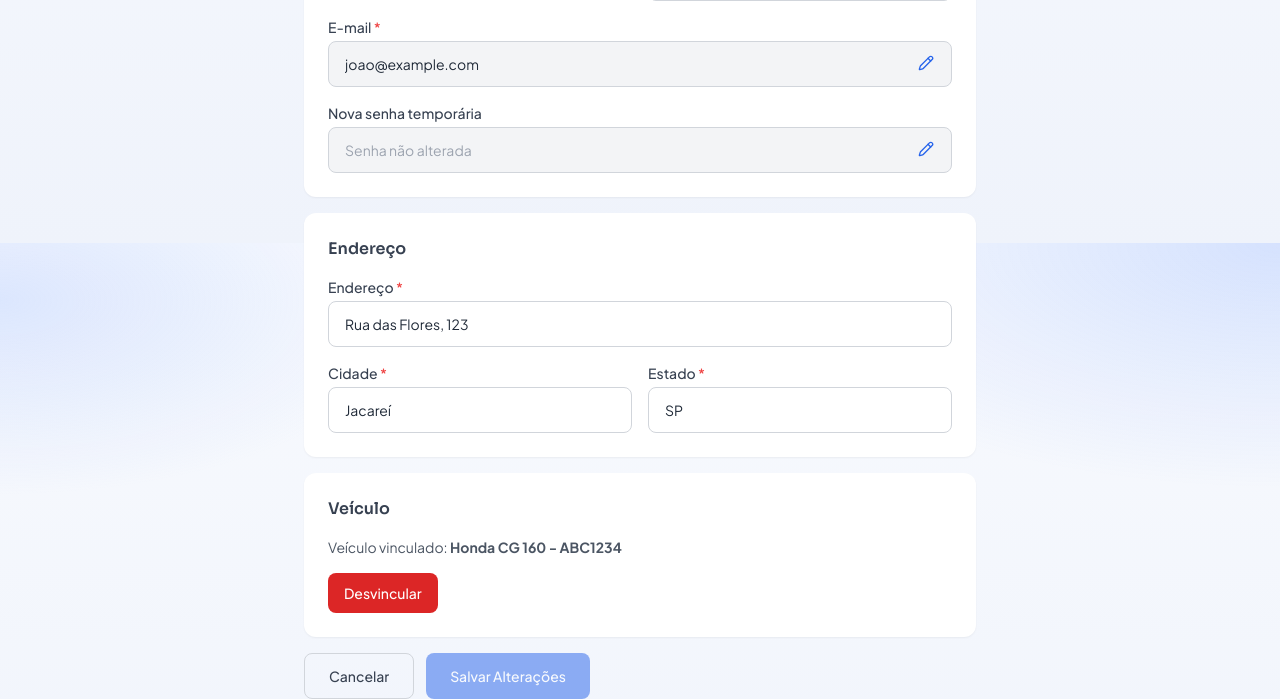
Scenario: DriverEditPage › WEB-05: shows the specific "active travel" error instead of a generic message
The image size is (1280, 699).
(page scrolled)
Expected: the text "Veículo vinculado: Honda CG 160 - ABC1234" is shown, [328, 538, 622, 556]
Step 1. Click the button "Desvincular" → click(383, 593), box [328, 573, 438, 613]
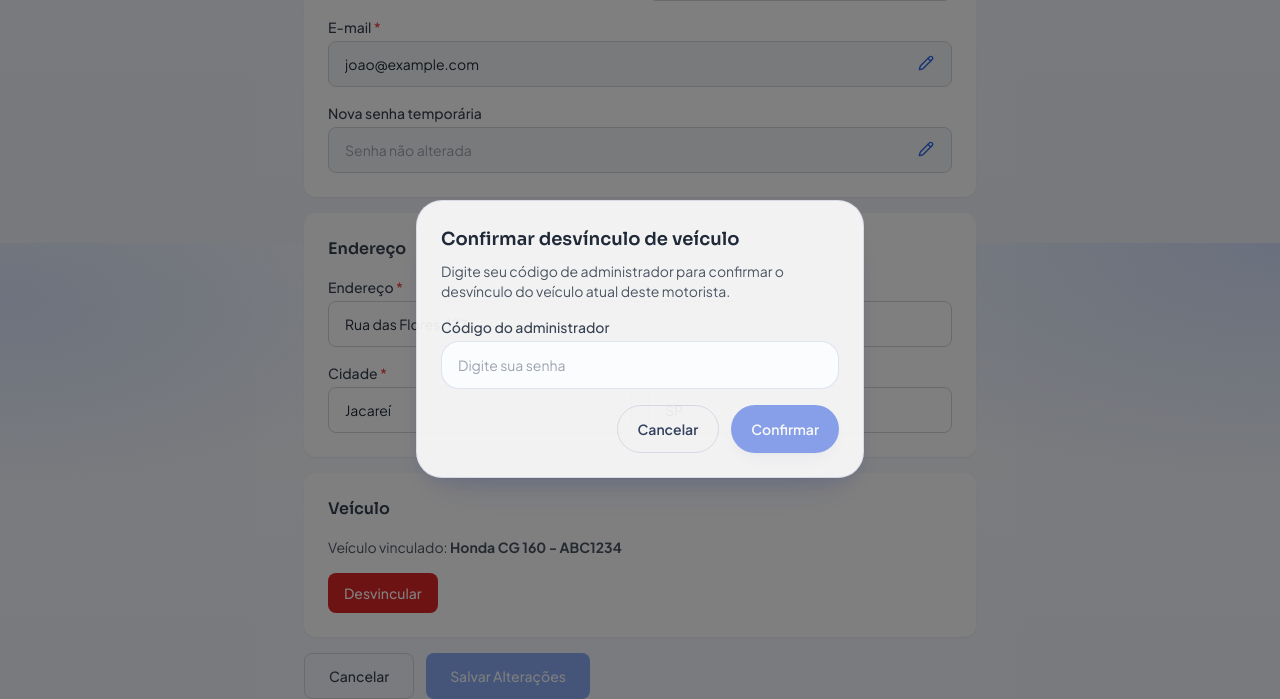
Step 2. Type "admin-pass" into the password field labelled "Código do administrador" → (640, 365), box [441, 341, 839, 389]
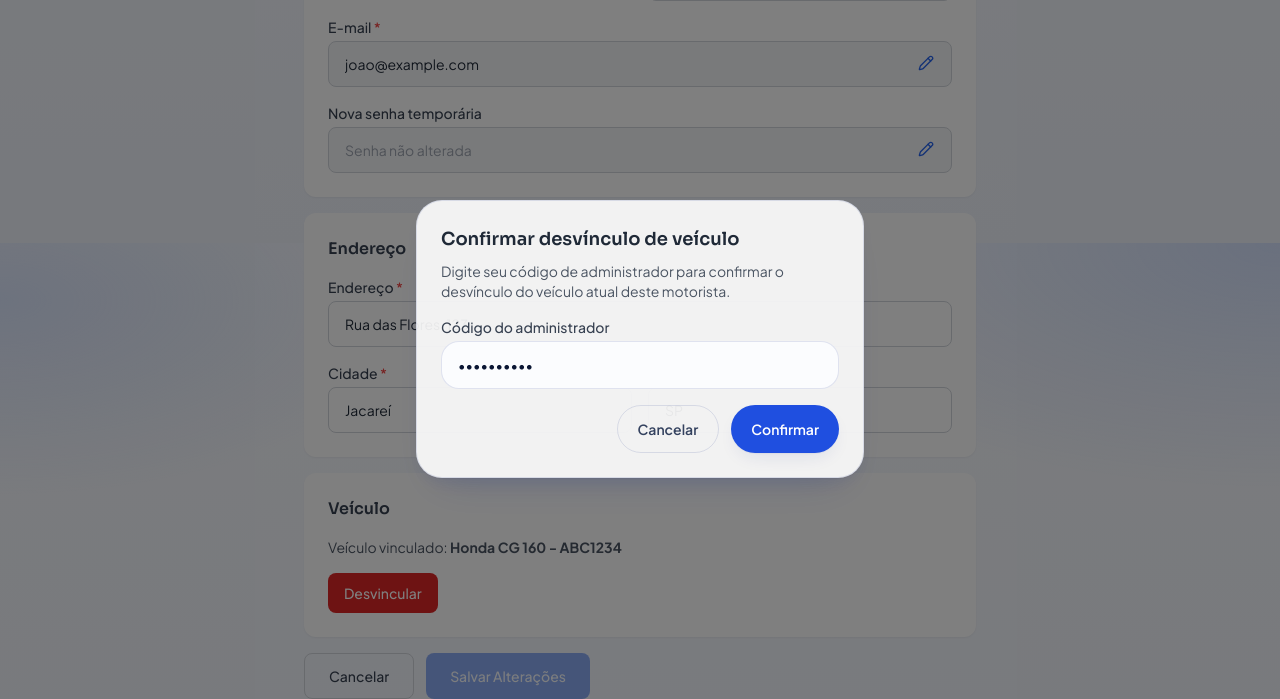
Step 3. Click the button "Confirmar" → click(785, 429), box [731, 405, 839, 453]
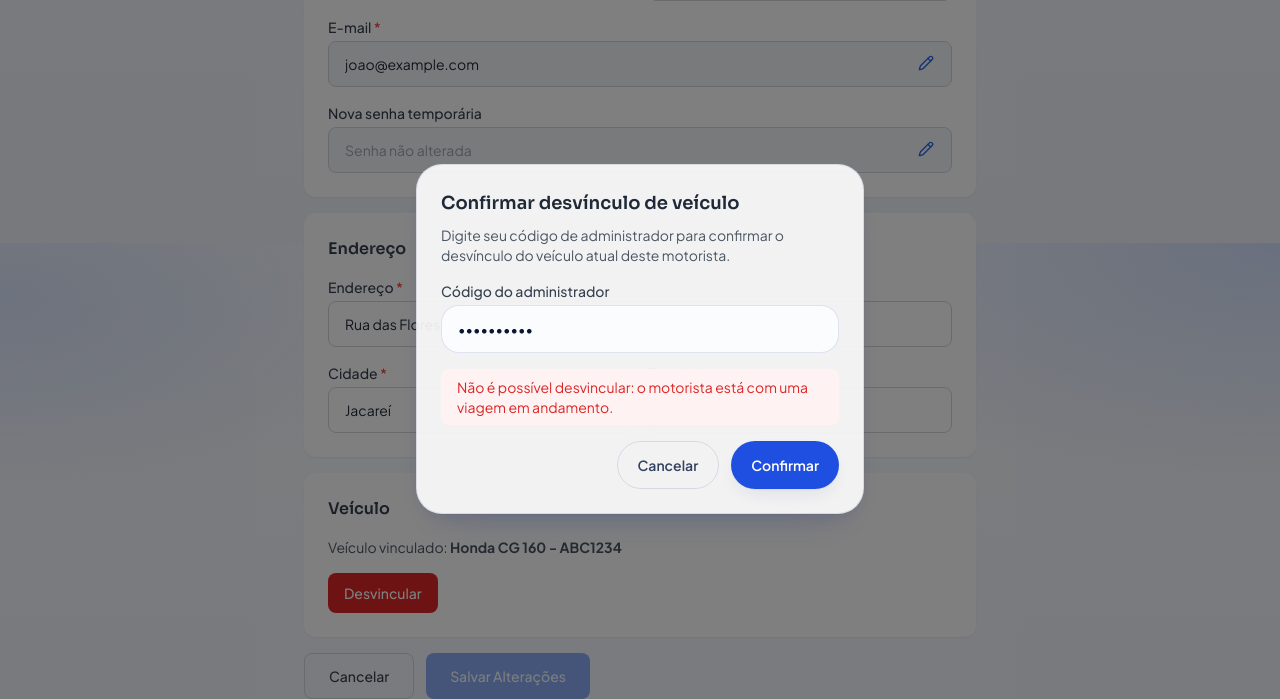
Expected: the text "Não é possível desvincular: o motorista está com uma viagem em andamento." is shown, [441, 369, 839, 425]
